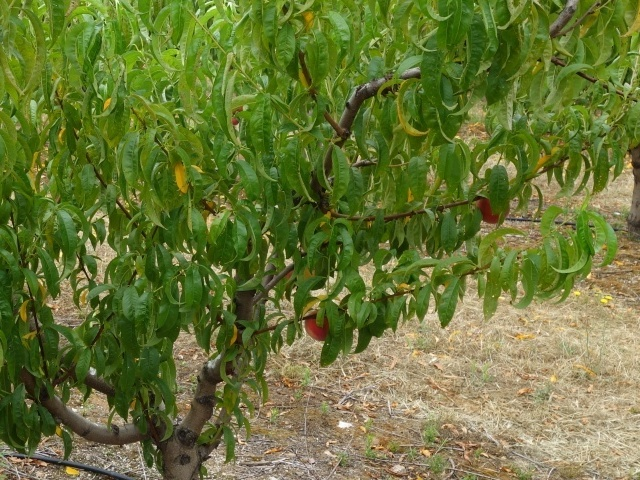peach: (302, 306, 337, 344), (472, 191, 509, 226)
